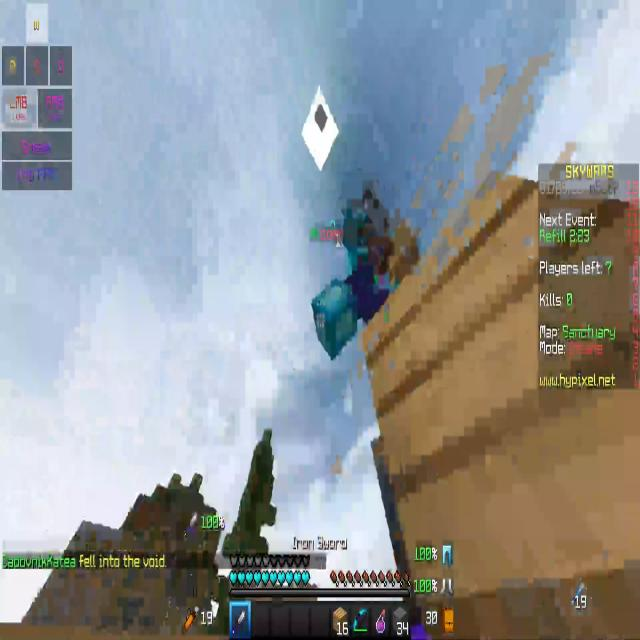Player: (306, 173, 425, 366)
